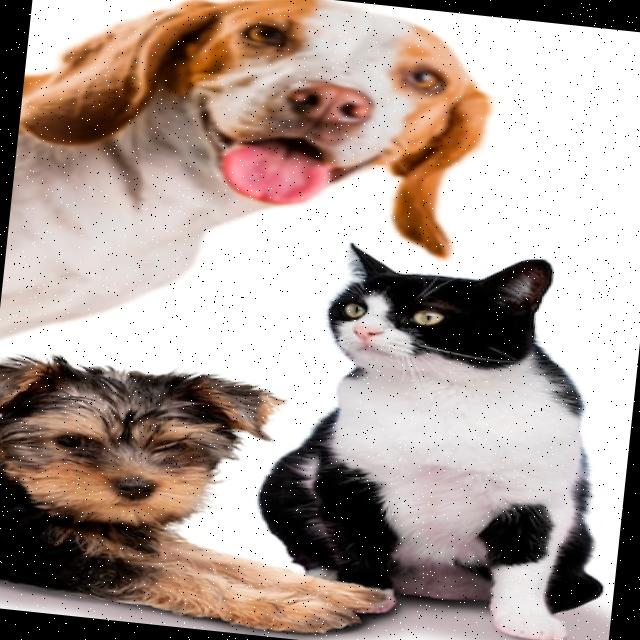Dog: (0, 0, 502, 391), (0, 349, 419, 640)
